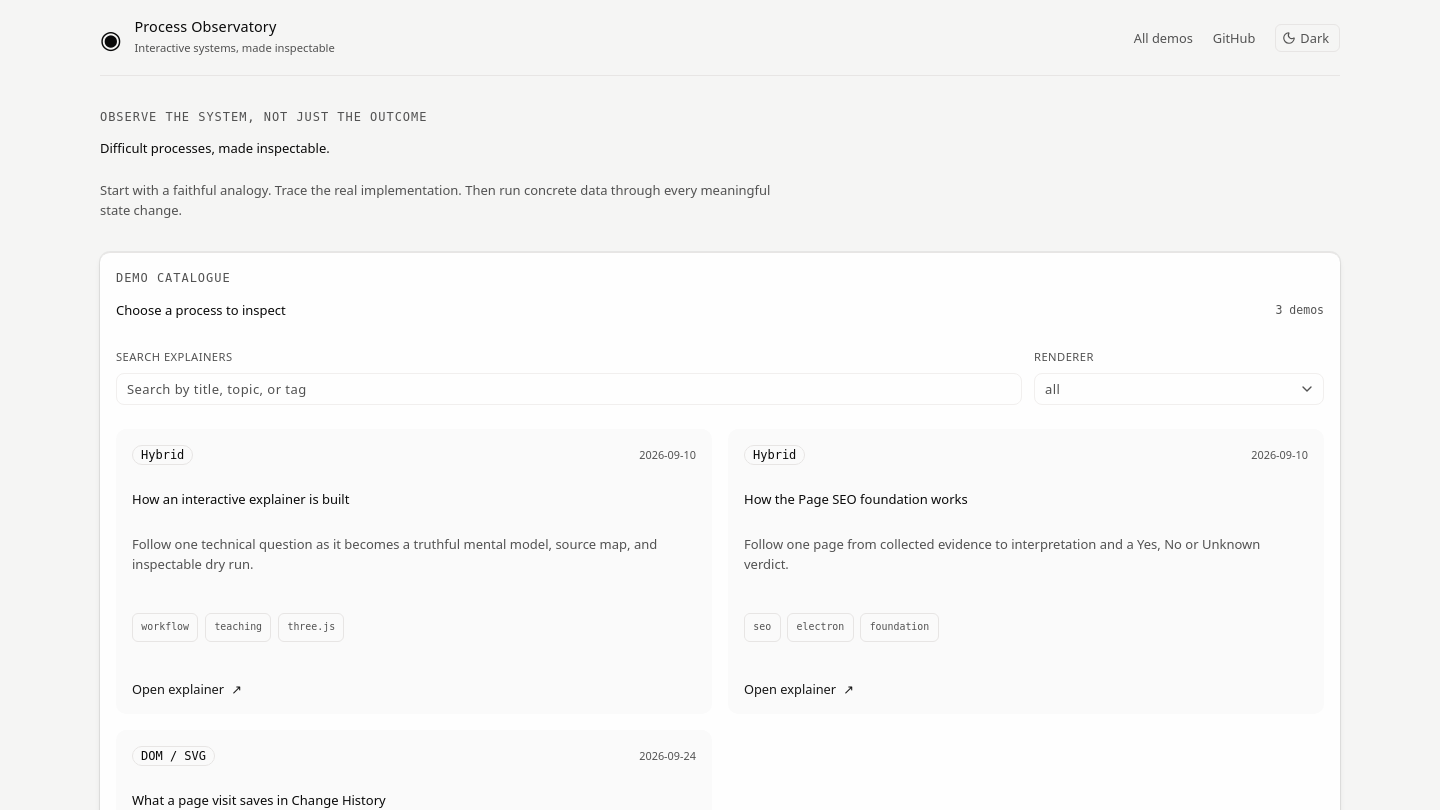
Test: application routes › filters the gallery and can reset an empty result
The width and height of the screenshot is (1440, 810).
Expected: the heading "Difficult processes, made inspectable." is shown, [100,139,330,157]
Step 1. Type "no such process" into the field labelled "Search explainers" → x=569, y=389, box [116,373,1022,405]
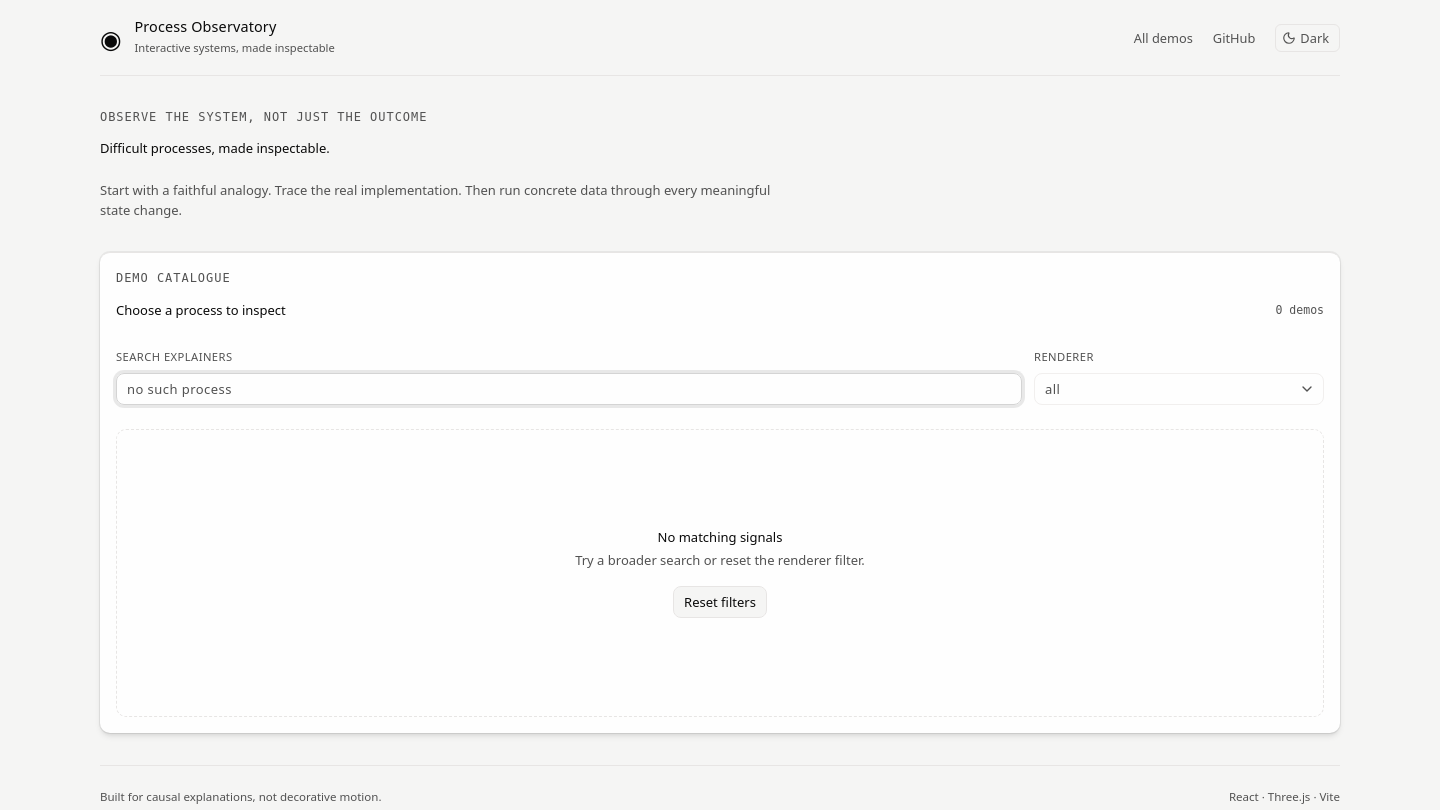
Now the heading "No matching signals" is shown, box [658,528,782,546]
Step 2. Click the button "Reset filters" → x=720, y=602, box [673,586,767,618]
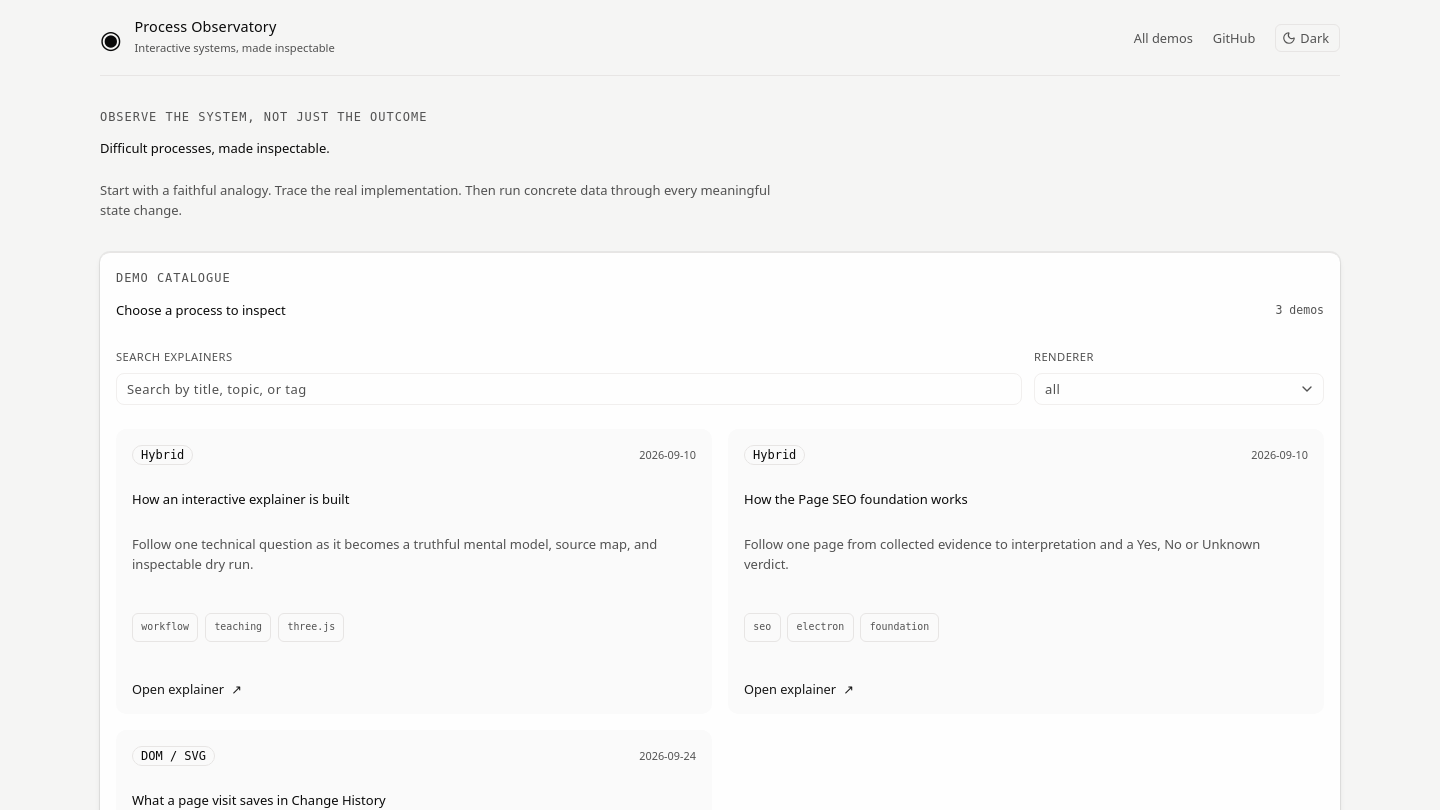
Now the link with aria-label "Open How an interactive explainer is built" is shown, box [132,680,242,698]
